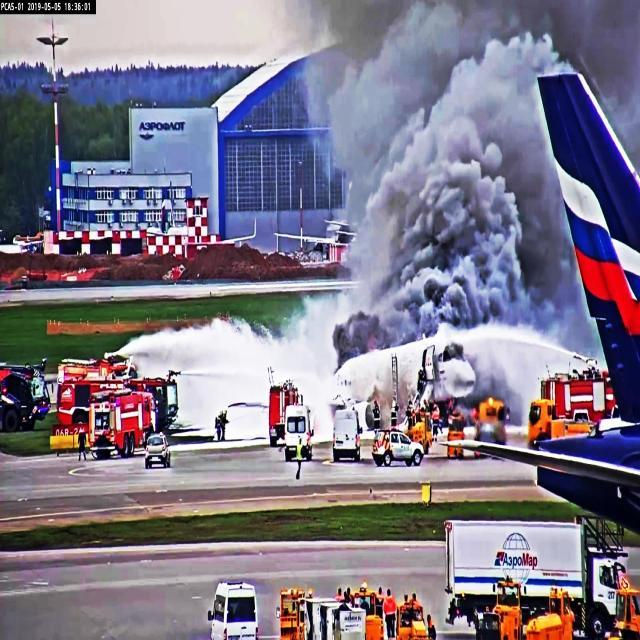Smoke: (290, 0, 544, 385), (329, 0, 506, 221), (548, 2, 640, 74)
